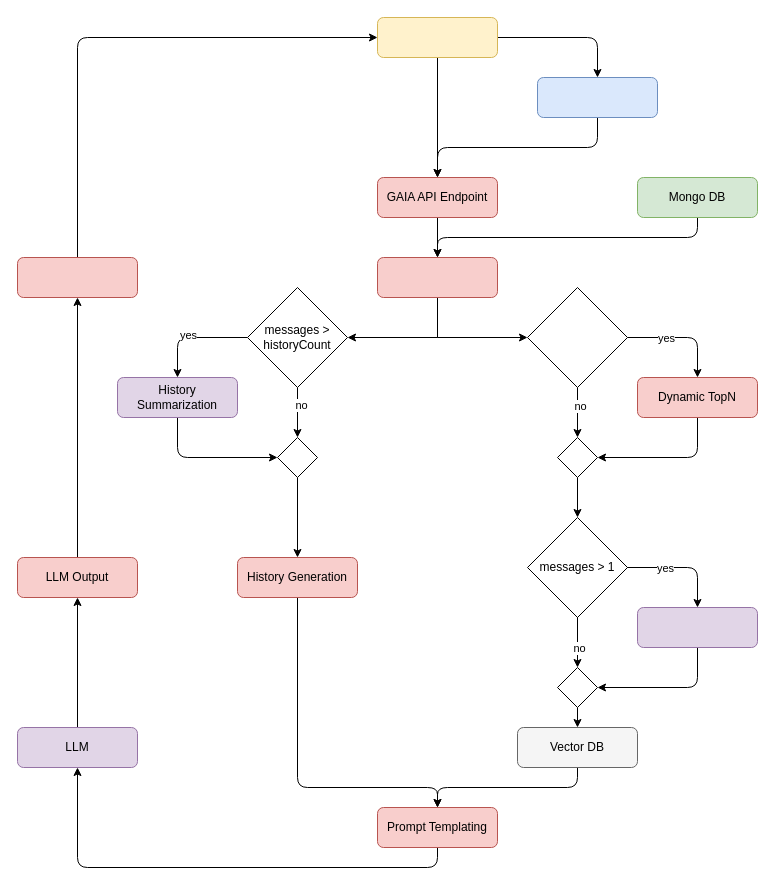
The diagram is 775 pixels wide and 893 high, and some of its shapes have lost their labels. Here are the shapes that lost their labels. From the top down, the box of each, then its label:
(376, 16, 498, 58): User
(536, 76, 658, 118): ChatBot
(16, 256, 138, 298): Source Link Replacement
(376, 256, 498, 298): Parameter Extraction
(526, 286, 628, 388): dynamicNActive
(636, 606, 758, 648): Search Query Generation
